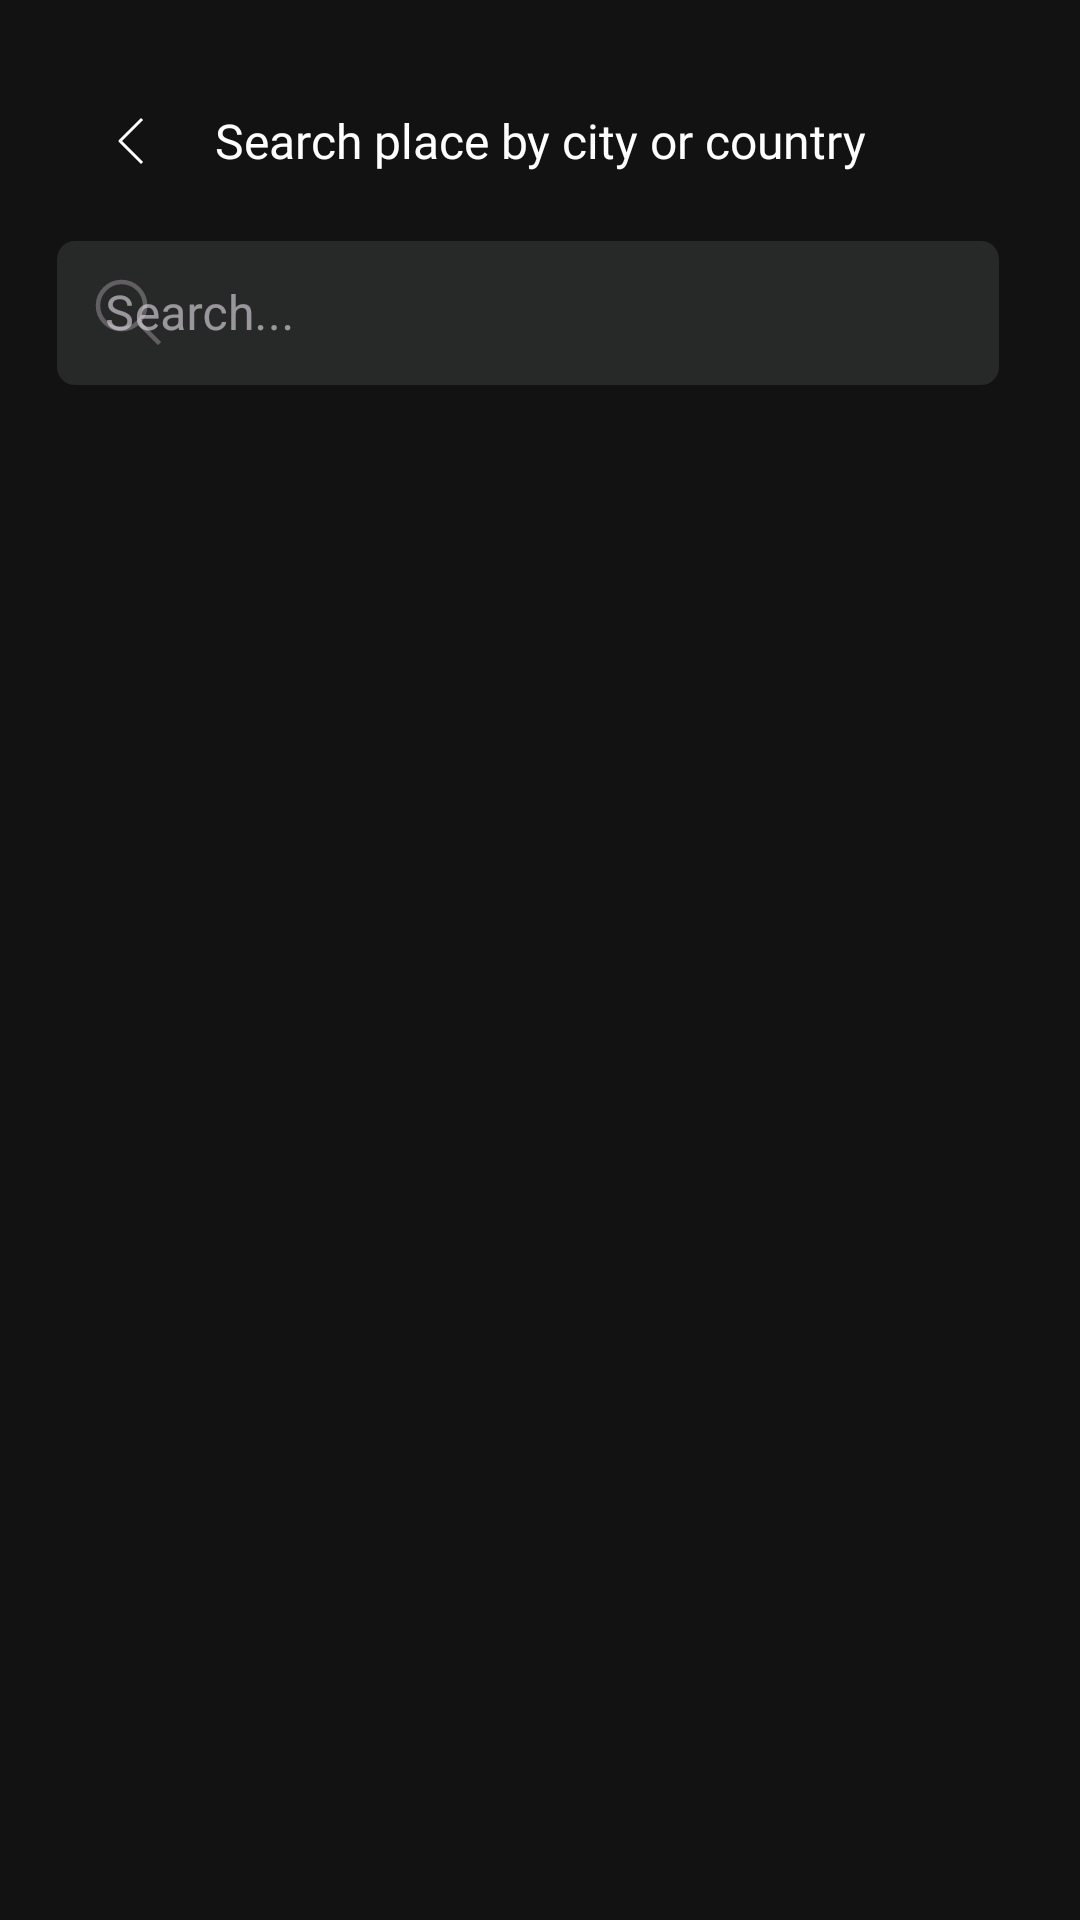

Icons on this 1080*1920 Android screen, each with the point to tap as (x,y):
back: (130,141)
